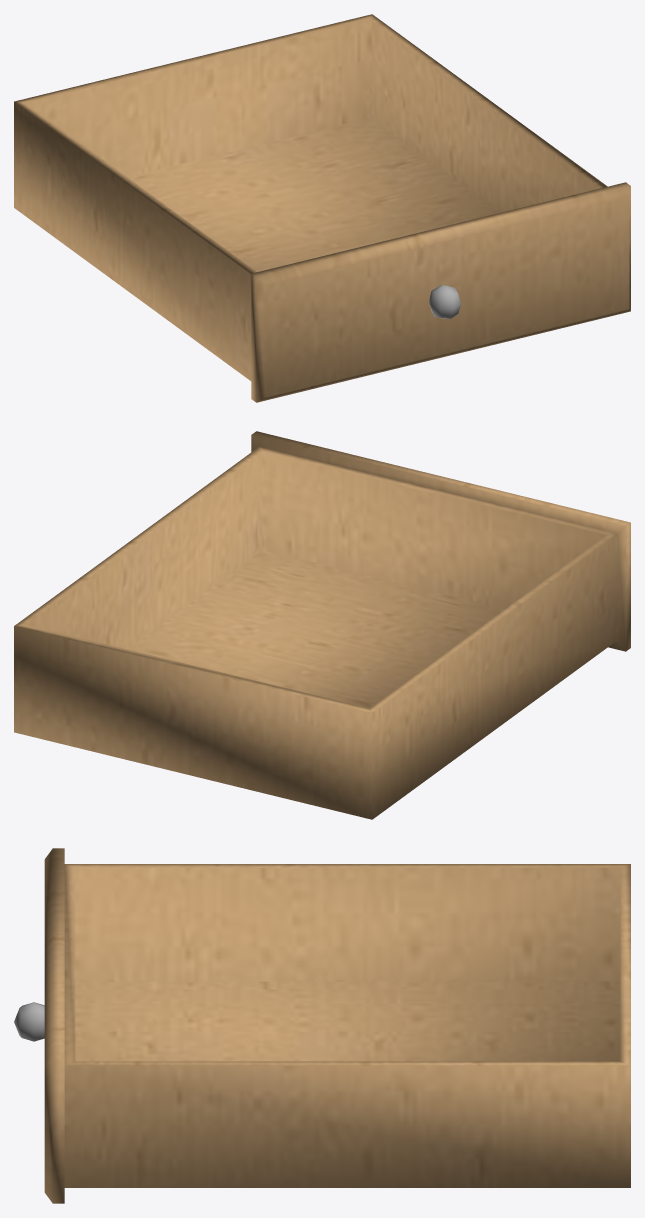
The model's file is K_SinkShelf.glb.
3 renders of one model, top to bottom at view 1: azimuth 30°, elevation 25°; view 2: azimuth 150°, elevation 25°; view 3: azimuth 270°, elevation 25°, orthographic. The views are drawn at different scales.
Visible parts, largest first — view 1: Kitchen_SinkDrawer; view 2: Kitchen_SinkDrawer; view 3: Kitchen_SinkDrawer.
Part boxes in pixels (x1,y1,x2,y2): Kitchen_SinkDrawer: (14, 14, 630, 402); Kitchen_SinkDrawer: (14, 431, 630, 819); Kitchen_SinkDrawer: (14, 848, 630, 1203).
Bounding box in the file's own units: 0.8157 × 0.261 × 1.01.
Materials: 2 (1 with a texture image).
